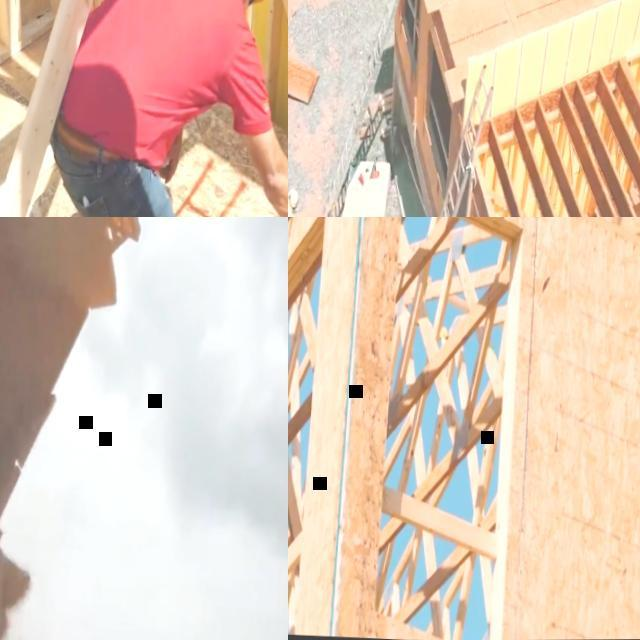helmet: (291, 190, 299, 208)
vest: (288, 194, 298, 217)
